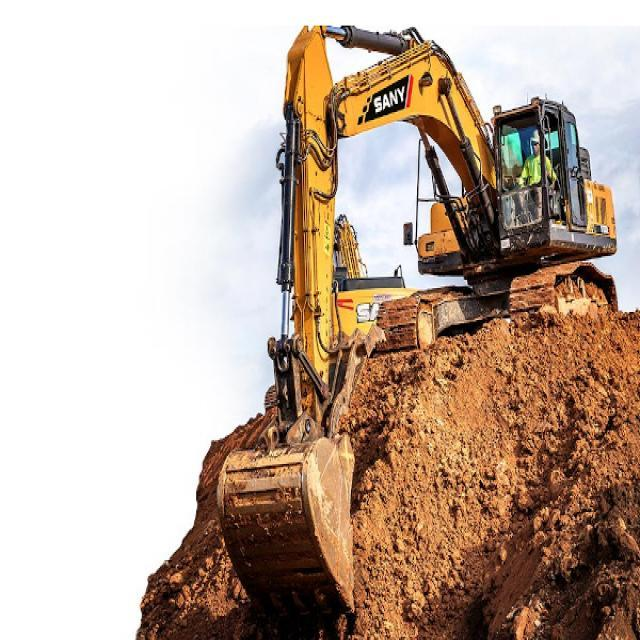C_E: (213, 12, 620, 622)
